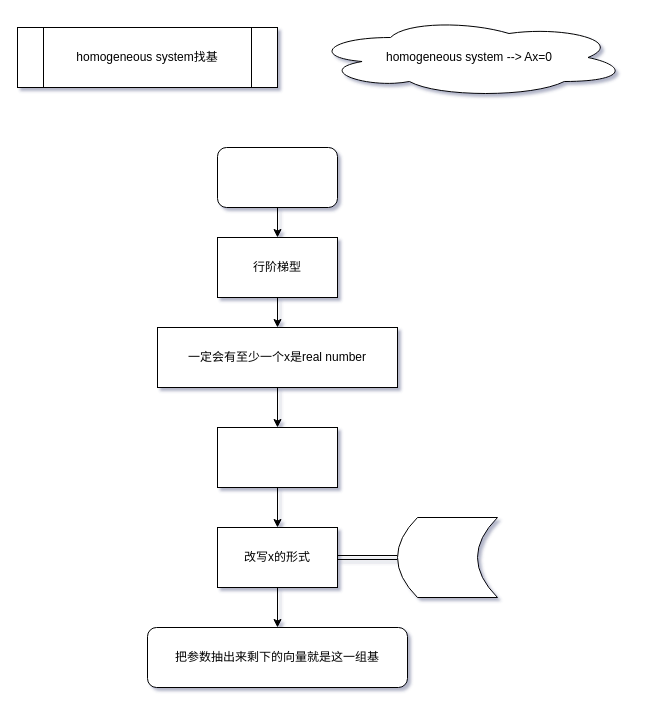
Some shapes in this 651 by 711 pixel diagram are drawn without their labels. The box of each missing label's shape, as (x1, y1, x2, y2) in pixels:
[x1] x=[x2] [x3]: (396, 516, 498, 598)
构造增广矩阵: (216, 146, 338, 208)
给real number参数: (216, 426, 338, 488)
